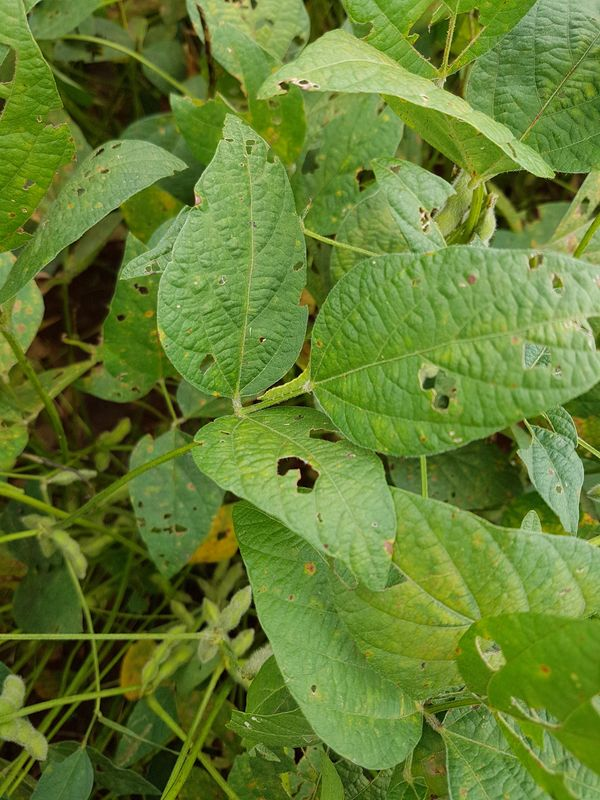Anticarsia_gemmatalis: (251, 349, 329, 408)
